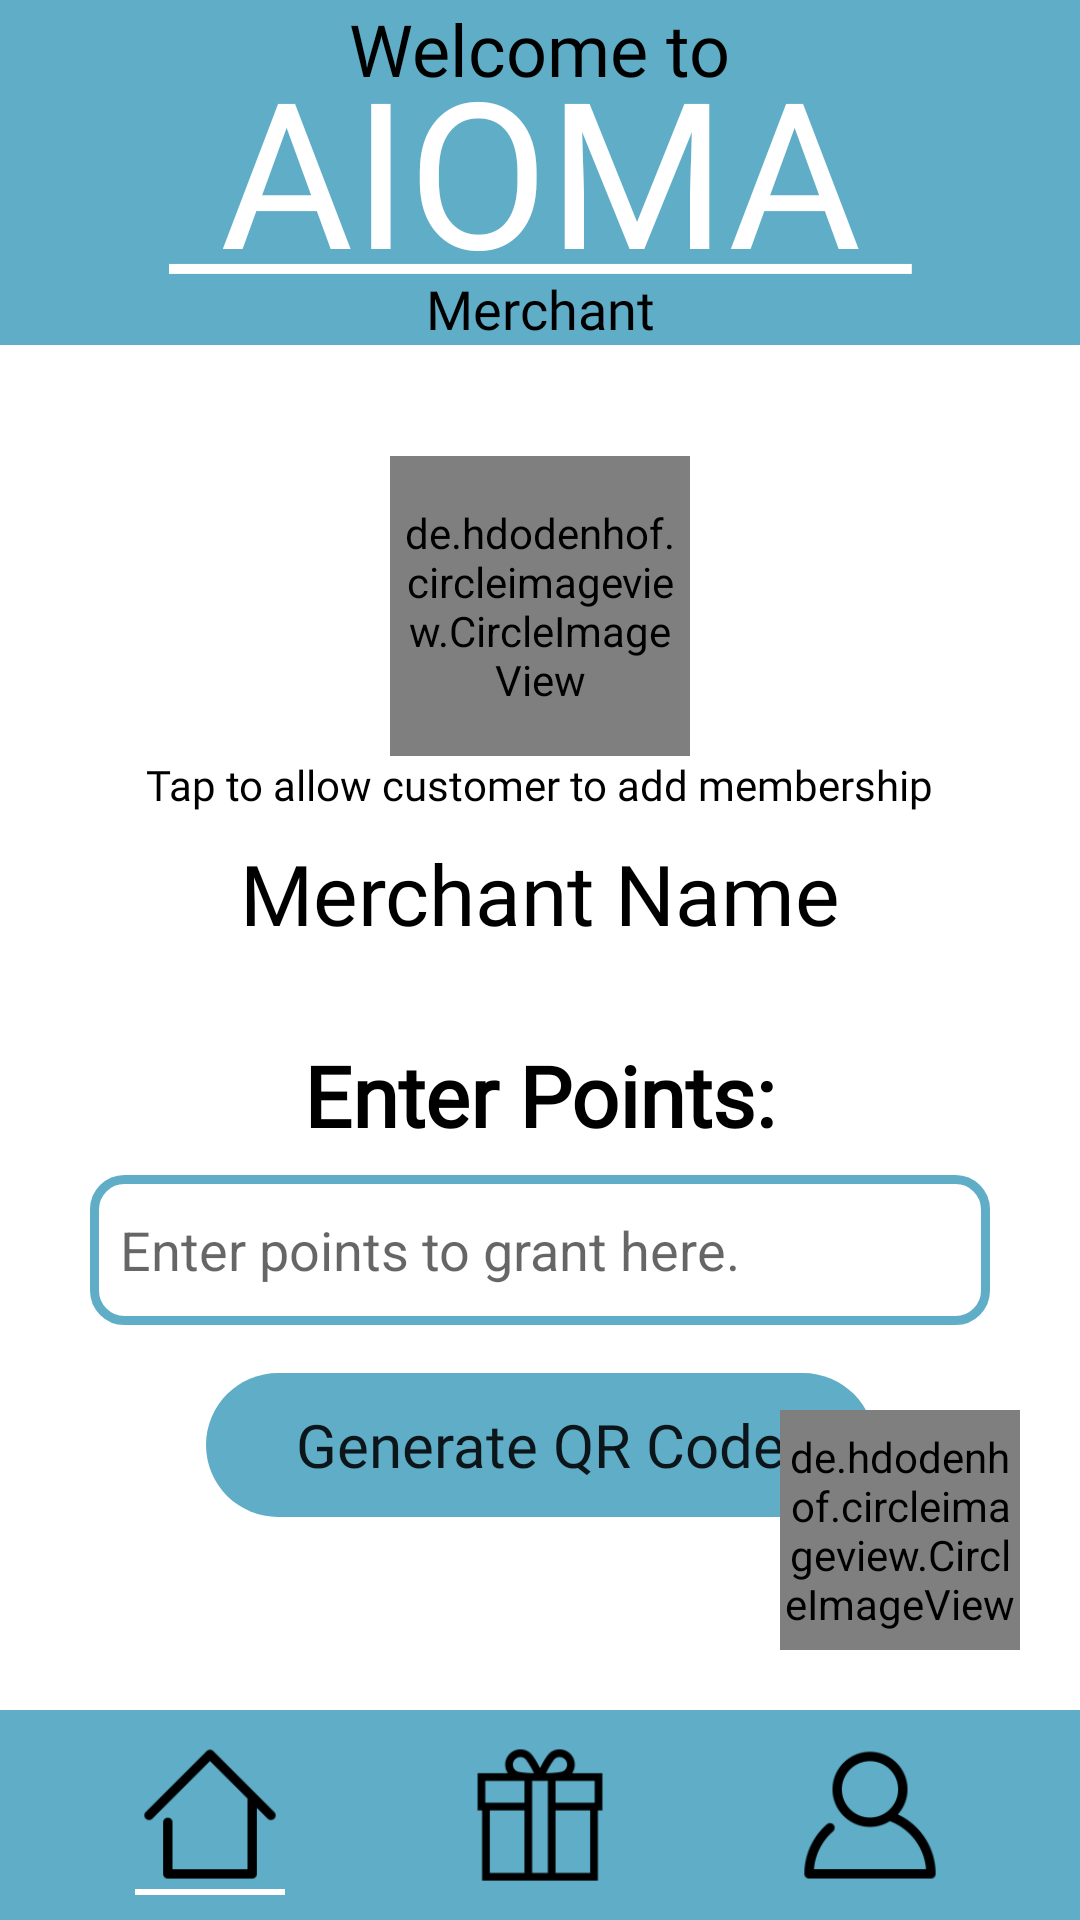

Icon bounding boxes for this 1080 x 1920 phone screenshot, format bbox=(x1, y1, x2, y2):
home: bbox=(144, 1749, 276, 1879)
profile: bbox=(804, 1751, 936, 1879)
reward: bbox=(477, 1749, 603, 1881)
